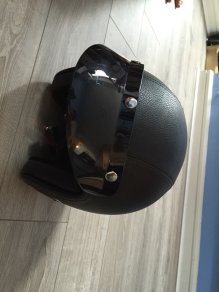with_helmet: (24, 53, 189, 219)
